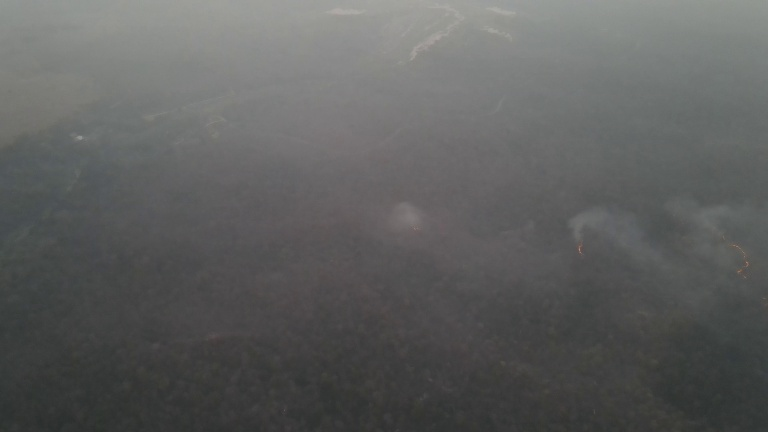fire: (715, 228, 752, 284), (575, 241, 587, 262)
smoke: (666, 193, 767, 304), (560, 200, 661, 276), (391, 198, 437, 243)
